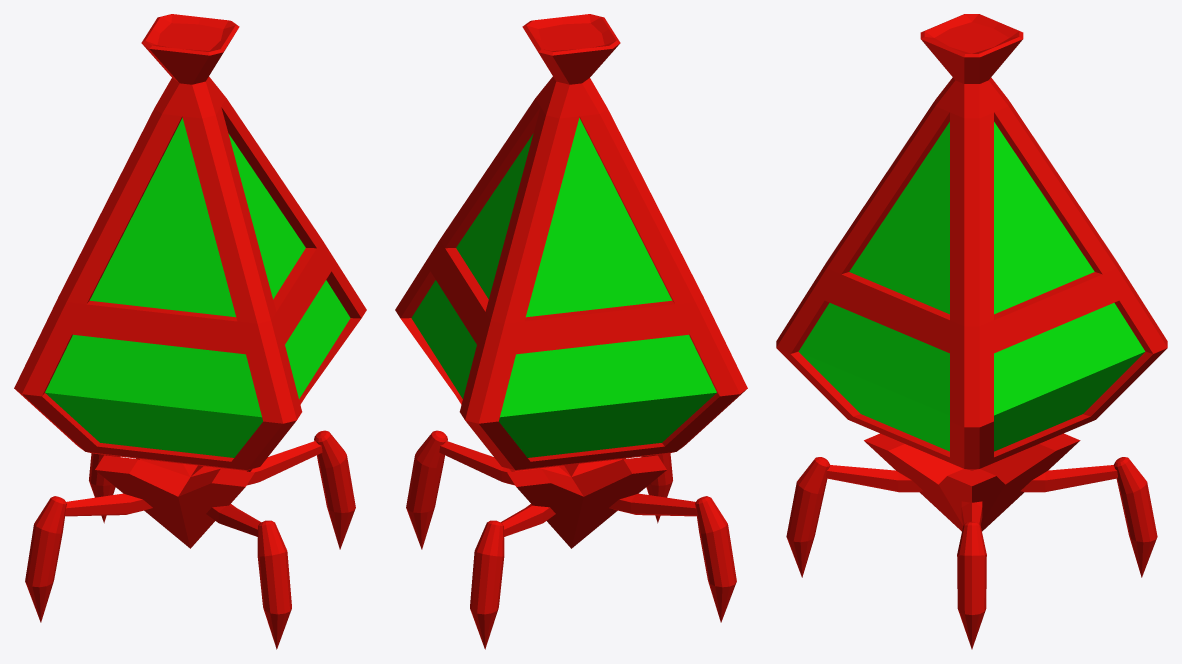
File: Fusée.fbx
3 renders of one model, left to right at view 1: azimuth 30°, elevation 25°; view 2: azimuth 150°, elevation 25°; view 3: azimuth 270°, elevation 25°, orthographic.
Parts seen in each view (by area): view 1: Cone, Cylinder, Cone.001; view 2: Cone, Cylinder, Cone.001; view 3: Cone, Cylinder, Cone.001.
Boxes of the visible parts, box(x1,y1,x2,y2) form: Cone: box(14, 14, 366, 470); Cylinder: box(25, 430, 355, 649); Cone.001: box(95, 455, 254, 548); Cone: box(395, 14, 747, 470); Cylinder: box(406, 430, 736, 649); Cone.001: box(507, 455, 666, 548); Cone: box(776, 14, 1167, 470); Cylinder: box(786, 457, 1157, 649); Cone.001: box(864, 433, 1080, 531).
Size of the model in its own units: 192 by 295 by 192.
